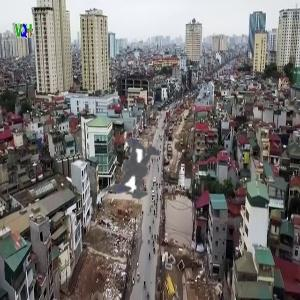drone: (66, 95, 211, 240)
